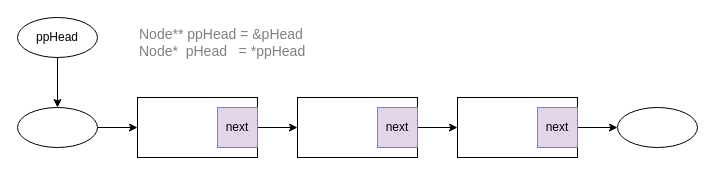
Image size: 715x175. Some labels were removed from this diagram. The box of each missing label's shape, as (x1, y1, x2, y2) in pixels:
nullptr: (616, 106, 698, 148)
pHead: (16, 106, 98, 148)
